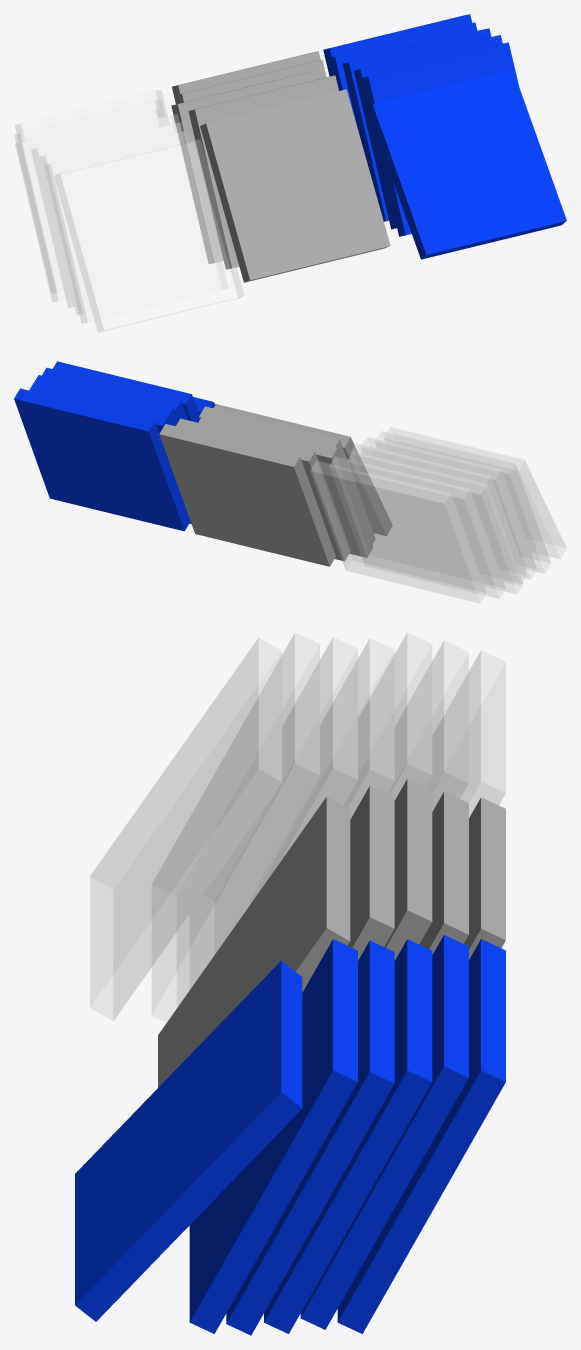
File: Pizza_ehb1pe_Pack01.fbx
3 views of the same model, one above another, from view 1: azimuth 30°, elevation 25°; view 2: azimuth 150°, elevation 25°; view 3: azimuth 270°, elevation 25° (orthographic). The views are drawn at different scales.
Parts seen in each view (by area): view 1: PizzaBox_ehb1pe_Pack01; view 2: PizzaBox_ehb1pe_Pack01; view 3: PizzaBox_ehb1pe_Pack01.
Part boxes in pixels (<box>): PizzaBox_ehb1pe_Pack01: <box>14,14,566,332</box>; PizzaBox_ehb1pe_Pack01: <box>14,361,566,603</box>; PizzaBox_ehb1pe_Pack01: <box>75,632,505,1335</box>.
Size of the model in its own units: 100 by 28.01 by 41.48.
